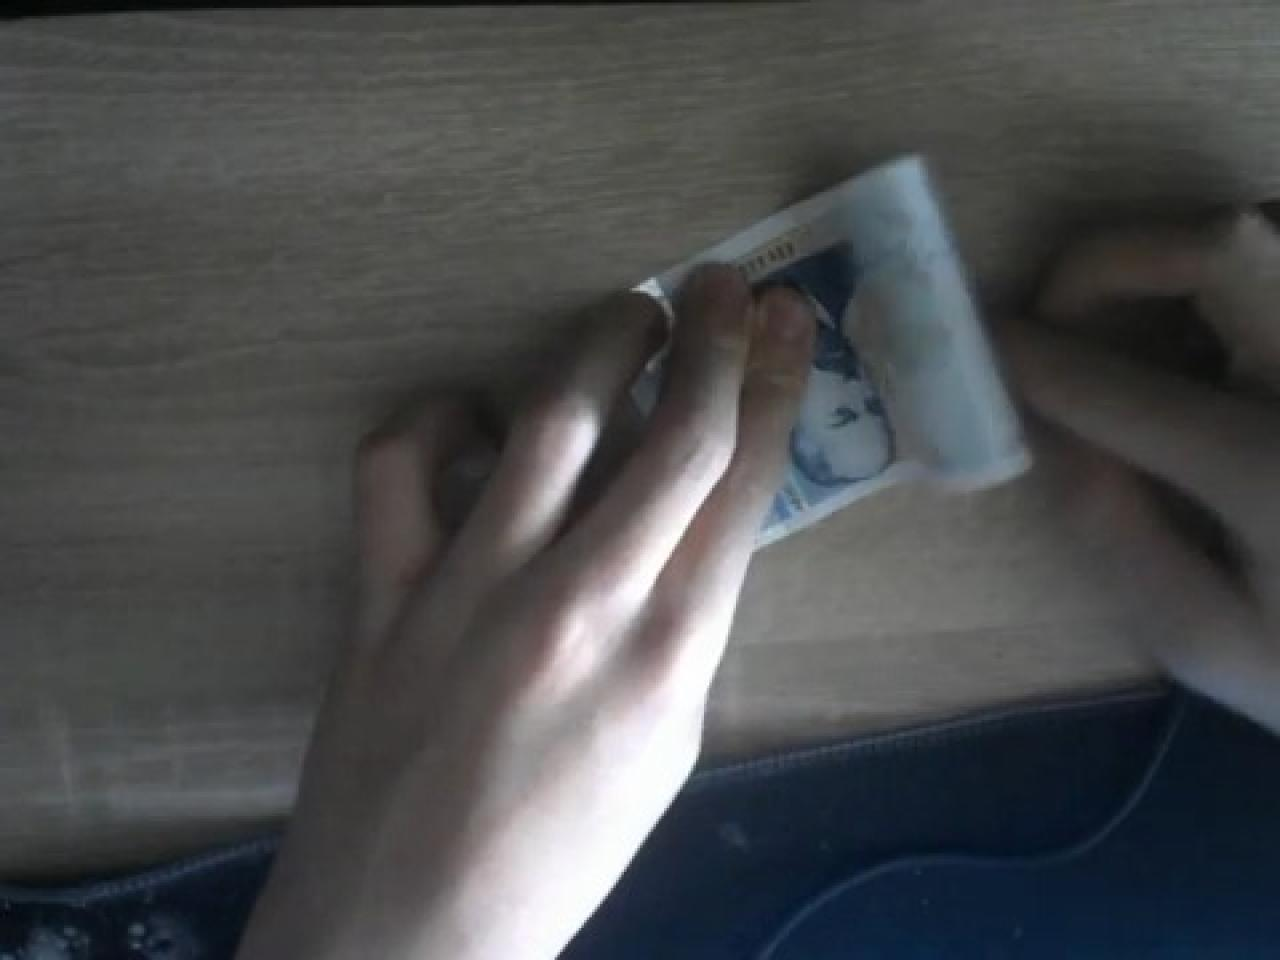20leva: (637, 152, 1035, 536)
